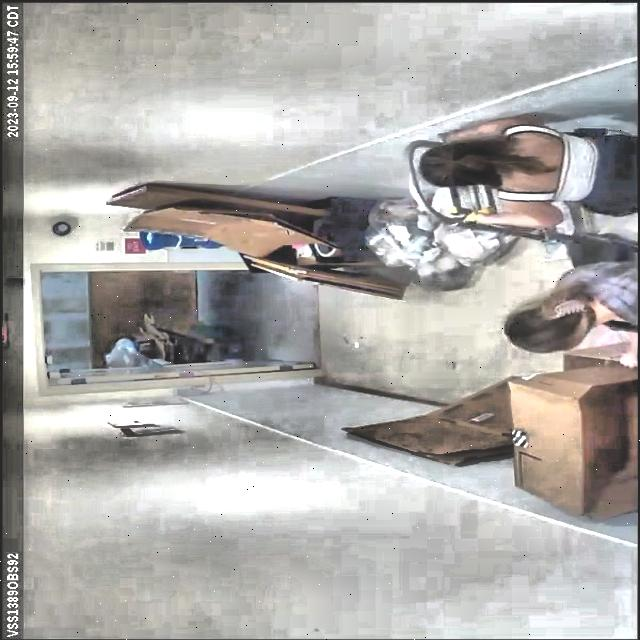not-gloved: (472, 207, 500, 227)
